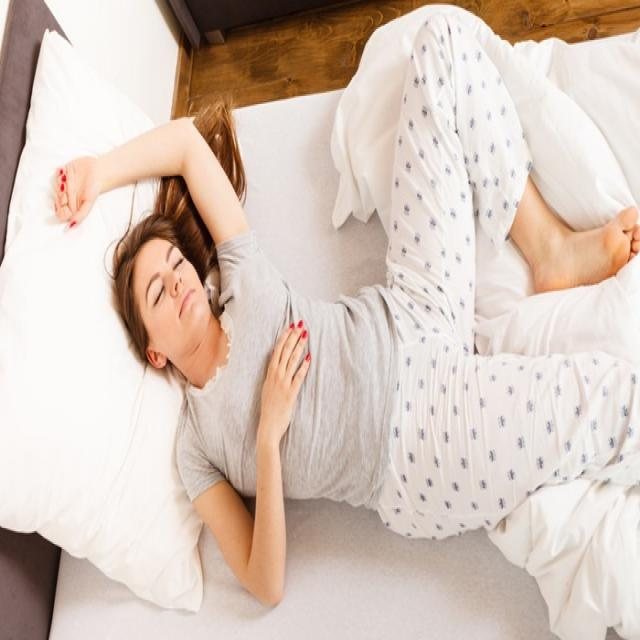people: (34, 6, 636, 609)
